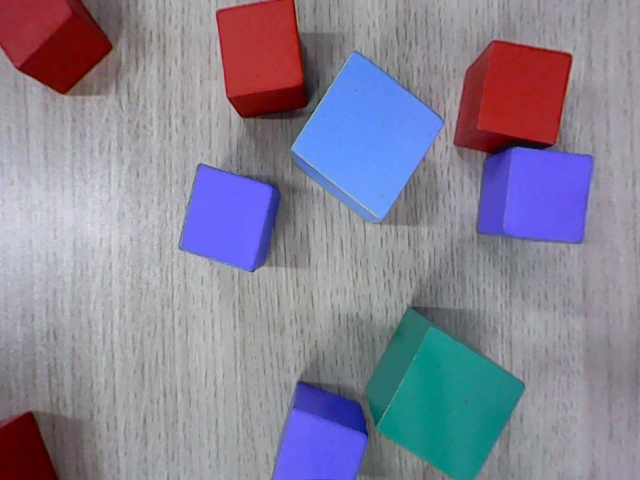upside of big cube: (288, 49, 448, 221), (373, 325, 527, 479)
upside of small cube: (178, 164, 274, 272), (476, 41, 572, 145), (214, 0, 306, 102), (500, 147, 594, 244), (268, 408, 370, 479), (0, 0, 76, 70)
